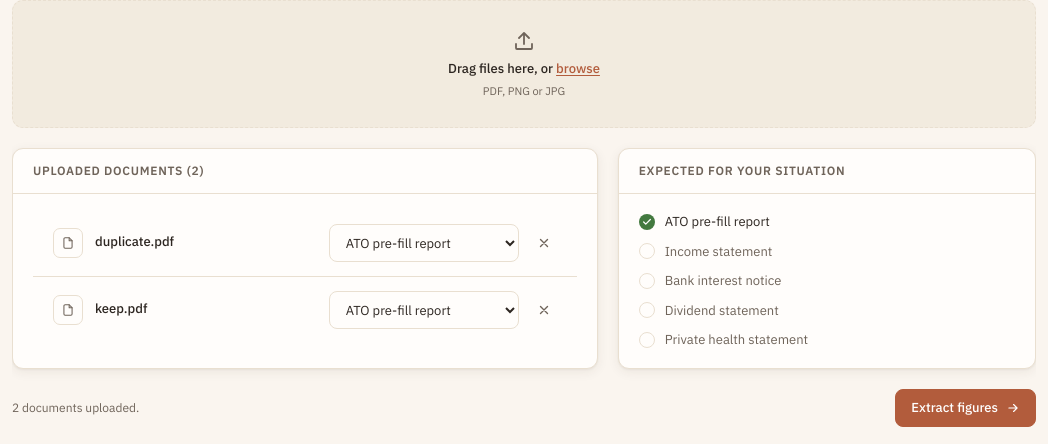
Test: DocumentsPanel (PRD FR-2, FR-3, §7 step 4) › removes a document via the DELETE route and drops the row
This screenshot has width=1048, height=444.
Click the button named "Remove duplicate.pdf".
click(544, 243)  # box [531, 230, 557, 256]
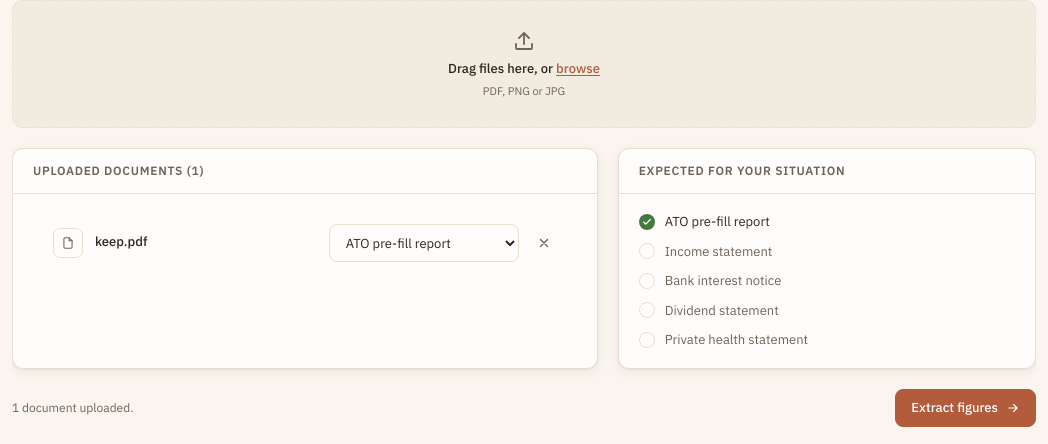
Expected: the text "keep.pdf" is shown, [95, 233, 147, 250]
Result: the text "duplicate.pdf" is gone
